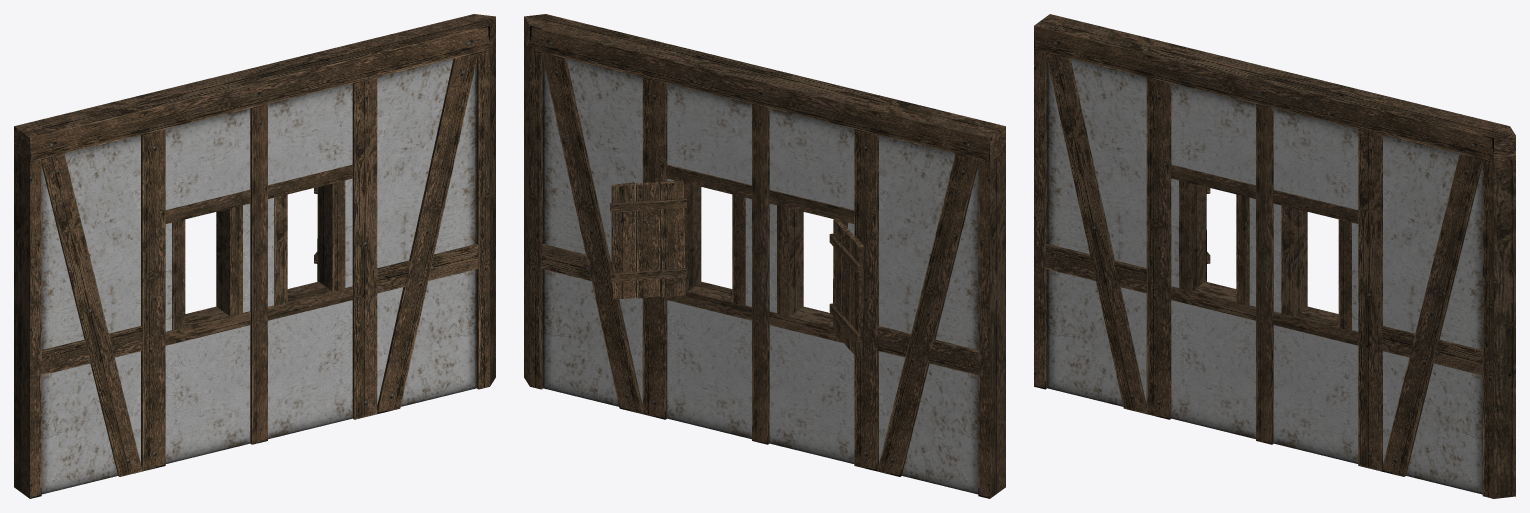
The model's file is timberWallWindow_upper.dae.
3 renders of one model, left to right at view 1: azimuth 30°, elevation 25°; view 2: azimuth 150°, elevation 25°; view 3: azimuth 330°, elevation 25°, orthographic.
Visible parts, largest first — view 1: timberWallWindow_upper; view 2: timberWallWindow_upper; view 3: timberWallWindow_upper.
Boxes of the visible parts, <box> form: timberWallWindow_upper: <box>14,14,495,498</box>; timberWallWindow_upper: <box>524,14,1005,498</box>; timberWallWindow_upper: <box>1034,14,1515,498</box>.
Size of the model in its own units: 4.12 by 3 by 0.6354.
Materials: 1 (1 with a texture image).
